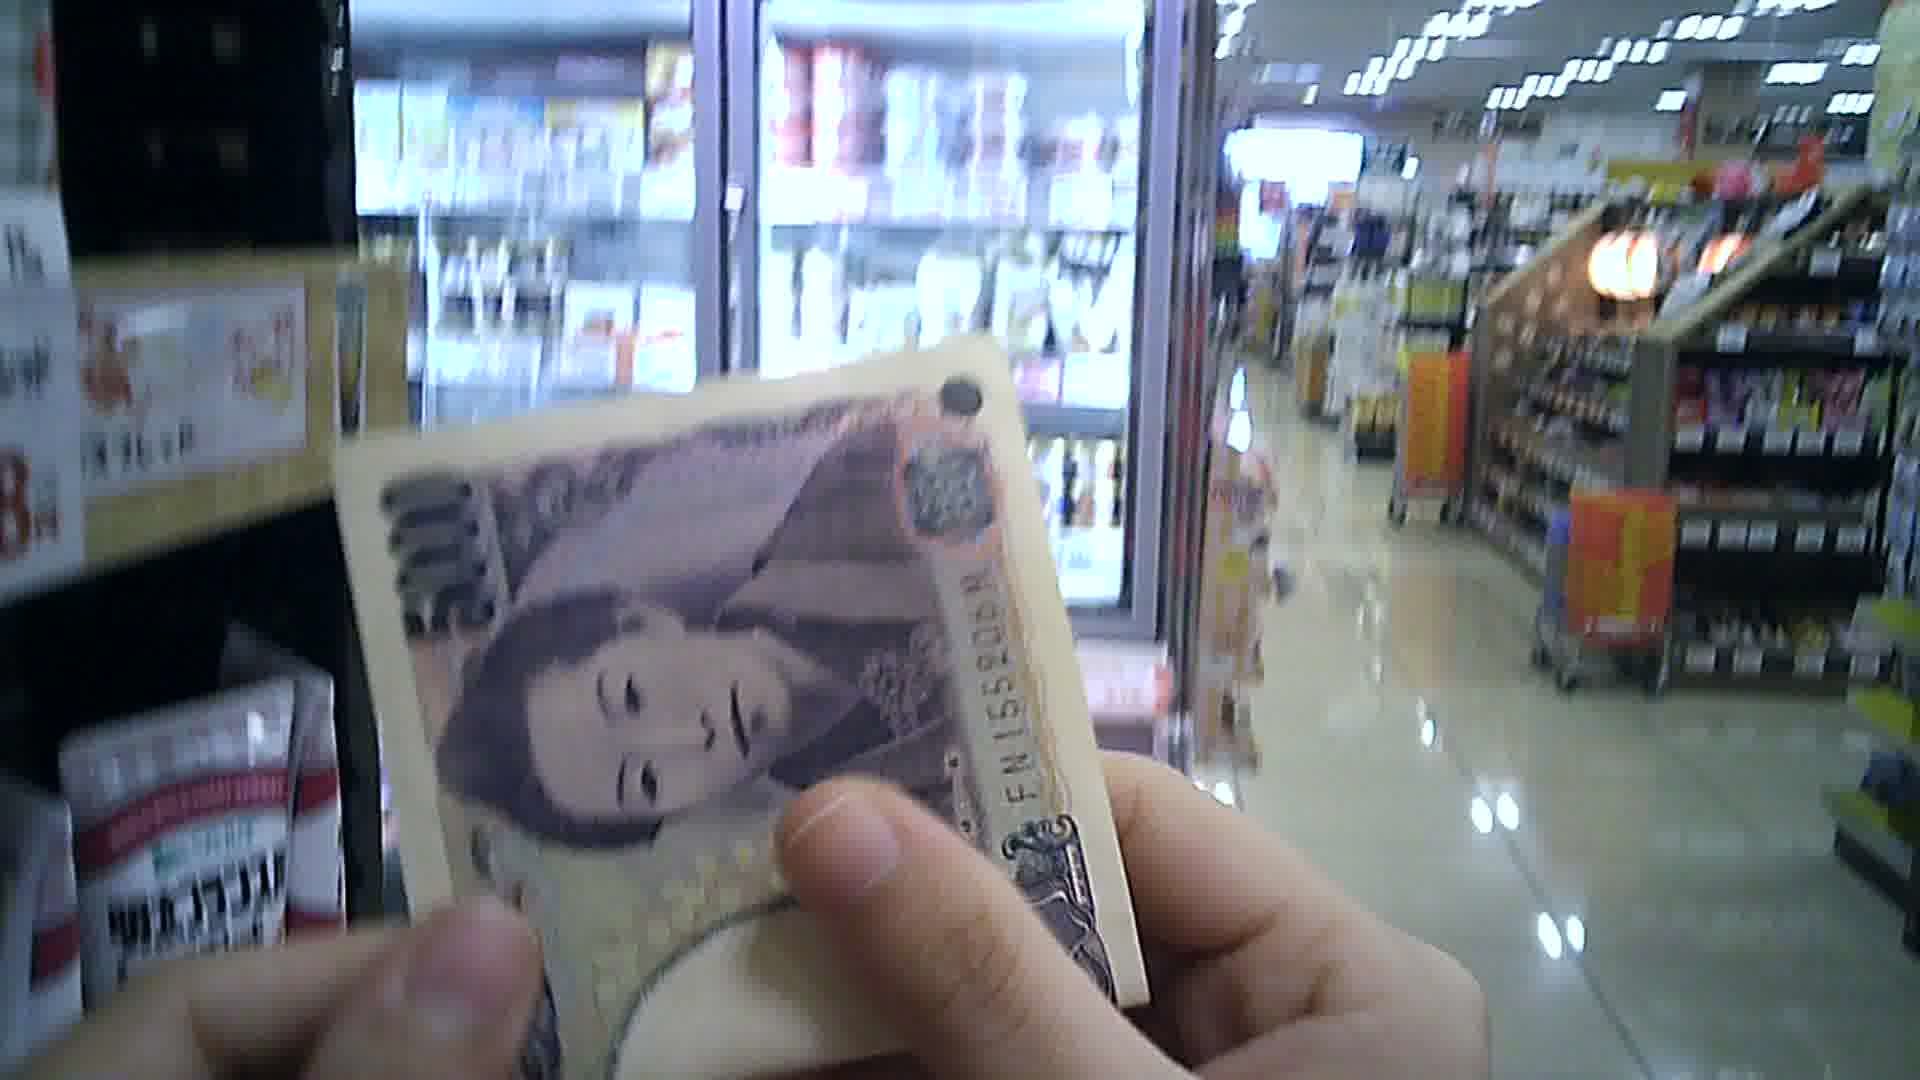5,000 Yen: (314, 338, 1135, 1069)
